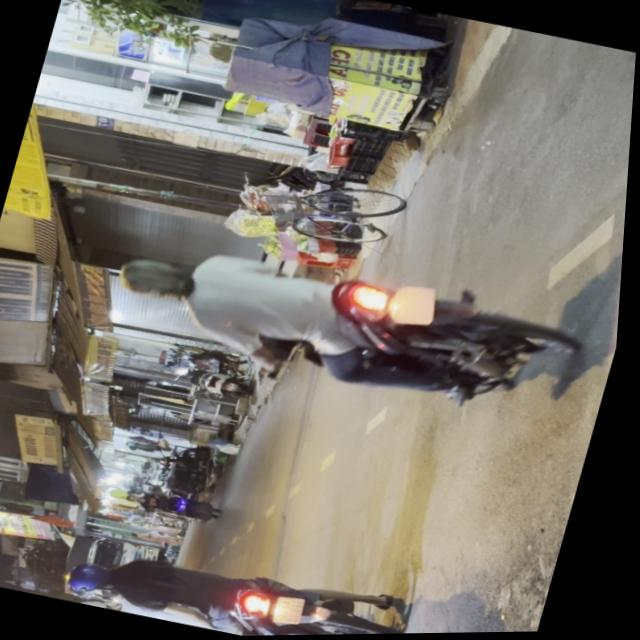helmet: (72, 556, 127, 594), (81, 593, 125, 611)
licenseplate: (96, 215, 602, 437), (61, 523, 421, 639)
motorcyclist: (115, 247, 201, 305)
nohelmet: (391, 280, 442, 328), (279, 592, 313, 625)
